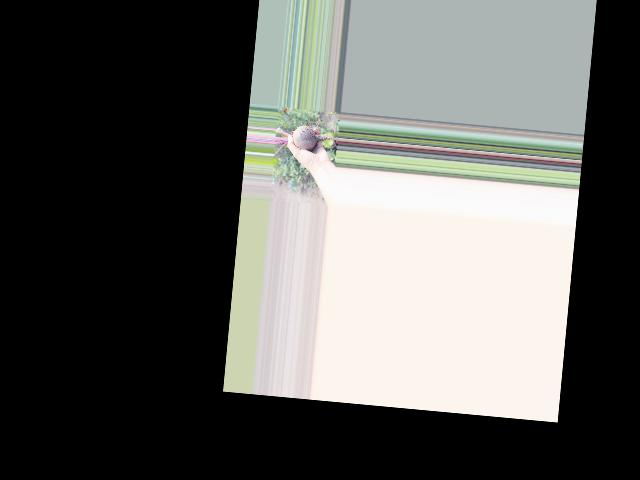beet: (273, 113, 340, 162)
